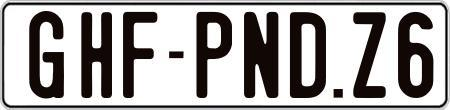6: (397, 11, 433, 100)
D: (289, 10, 328, 100)
F: (123, 10, 157, 98)
G: (27, 8, 67, 96)
H: (78, 12, 111, 104)
N: (242, 11, 278, 102)
P: (195, 11, 234, 98)
Z: (350, 10, 388, 101)
